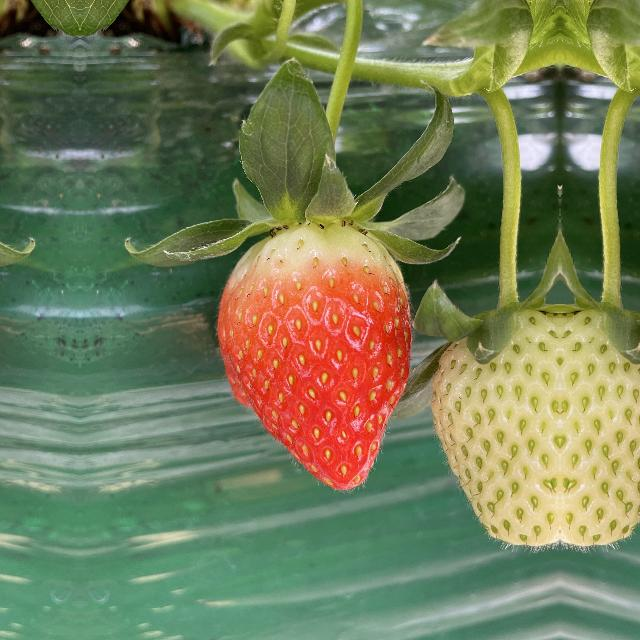Health_100: (210, 220, 420, 490)
Health_25: (430, 300, 560, 546), (560, 300, 640, 545)
